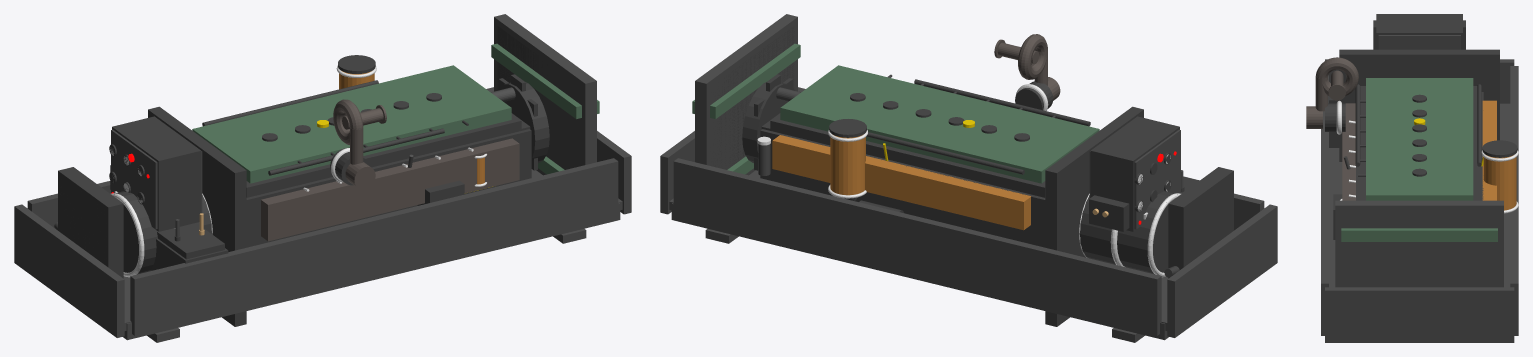
File: Generator.glb
3 renders of one model, left to right at view 1: azimuth 30°, elevation 25°; view 2: azimuth 150°, elevation 25°; view 3: azimuth 270°, elevation 25°, orthographic. The views are drawn at different scales.
Visible parts, largest first — view 1: SideGuardL, ValveCover, ExhManifold, EndWallRear, Rad_Frame, PanelHousing, TermBox, FHCover, CylHead, EngBlock, PanelFace, Alt_Main (+17 smaller); view 2: SideGuardR, ValveCover, IntManifold, EndWallRear, Rad_Frame, FHCover, TermBox, EngBlock, PanelHousing, Alt_Main, CylHead, PanelFace (+14 smaller); view 3: Rad_Frame, ValveCover, EndWallFront, FHCover, Rad_TankTop, Skid_Main, PanelHousing, SideGuardR, SideGuardL, AirFilter, CylHead, PanelFace (+17 smaller).
Boxes of the visible parts, box(x1,y1,x2,y2) form: SideGuardL: box(130, 158, 618, 335); ValveCover: box(192, 65, 511, 183); ExhManifold: box(261, 138, 519, 241); EndWallRear: box(14, 204, 124, 337); Rad_Frame: box(494, 14, 596, 175); PanelHousing: box(112, 116, 201, 231); TermBox: box(58, 167, 123, 278); FHCover: box(148, 106, 246, 326); CylHead: box(246, 113, 521, 197); EngBlock: box(246, 129, 531, 247); PanelFace: box(111, 129, 202, 229); Alt_Main: box(114, 191, 212, 274); SideGuardR: box(673, 158, 1161, 335); ValveCover: box(780, 65, 1099, 183); IntManifold: box(772, 135, 1030, 230); EndWallRear: box(1167, 204, 1277, 337); Rad_Frame: box(695, 14, 797, 175); FHCover: box(1045, 106, 1143, 326); TermBox: box(1168, 167, 1233, 278); EngBlock: box(760, 129, 1045, 247); PanelHousing: box(1090, 116, 1179, 231); Alt_Main: box(1079, 191, 1177, 274); CylHead: box(770, 113, 1045, 197); PanelFace: box(1089, 129, 1180, 229); Rad_Frame: box(1335, 200, 1503, 287); ValveCover: box(1366, 78, 1473, 200); EndWallFront: box(1325, 287, 1514, 342); FHCover: box(1339, 49, 1499, 161); Rad_TankTop: box(1341, 228, 1497, 241); Skid_Main: box(1329, 103, 1510, 287); PanelHousing: box(1376, 14, 1462, 49); SideGuardR: box(1510, 66, 1518, 335); SideGuardL: box(1321, 74, 1328, 335); AirFilter: box(1483, 155, 1516, 210); CylHead: box(1360, 86, 1479, 200); PanelFace: box(1378, 35, 1460, 49).
Bounding box in the file's own units: 5.32 × 1.97 × 2.06.
